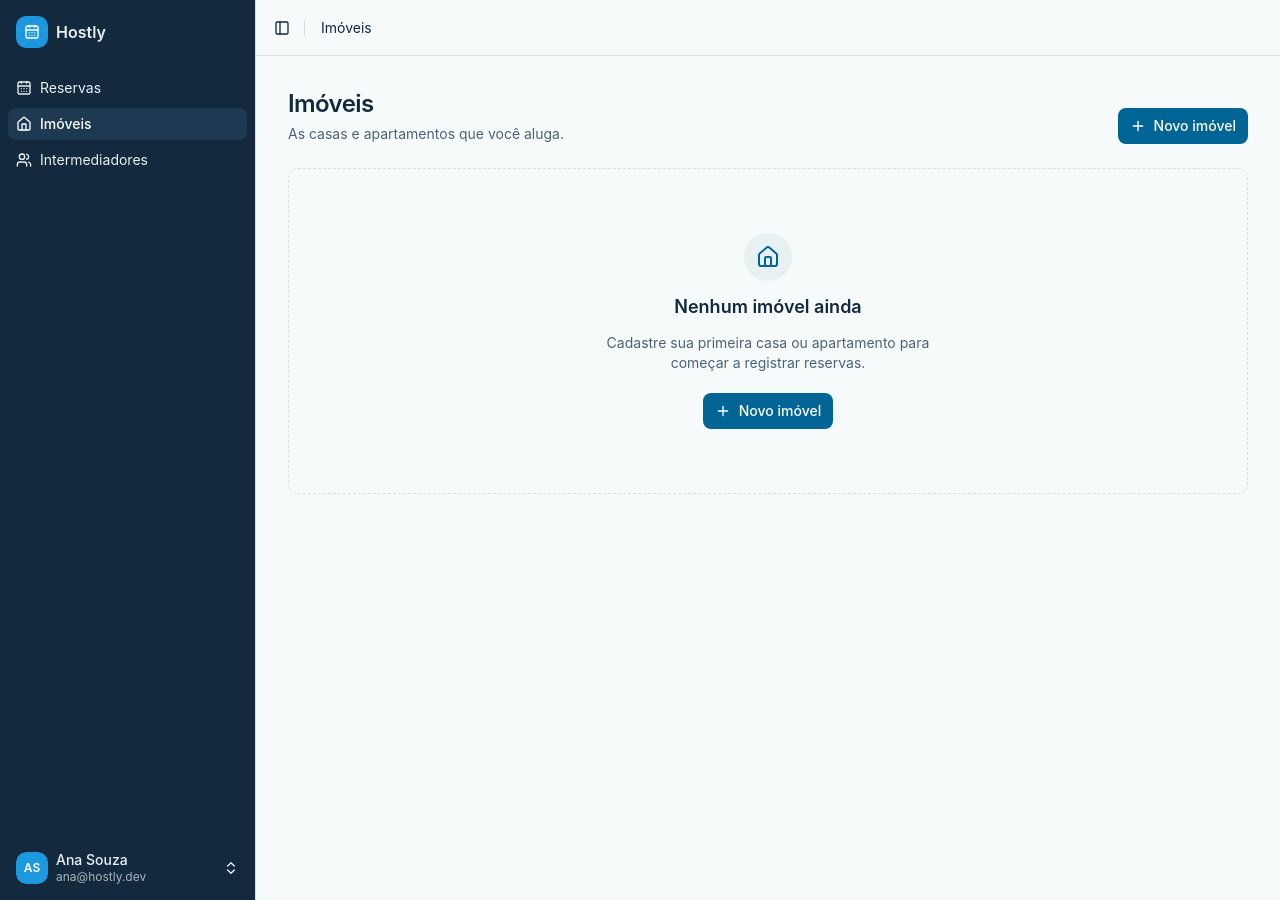
Test case: creating a property › lets the address be typed by hand when the CEP is down
Expected: the heading "Imóveis" is shown, [288,89,374,118]
Click the button "Novo imóvel" in the row of "As casas e apartamentos que você aluga." at (1183,126), box [1118,108,1248,144]
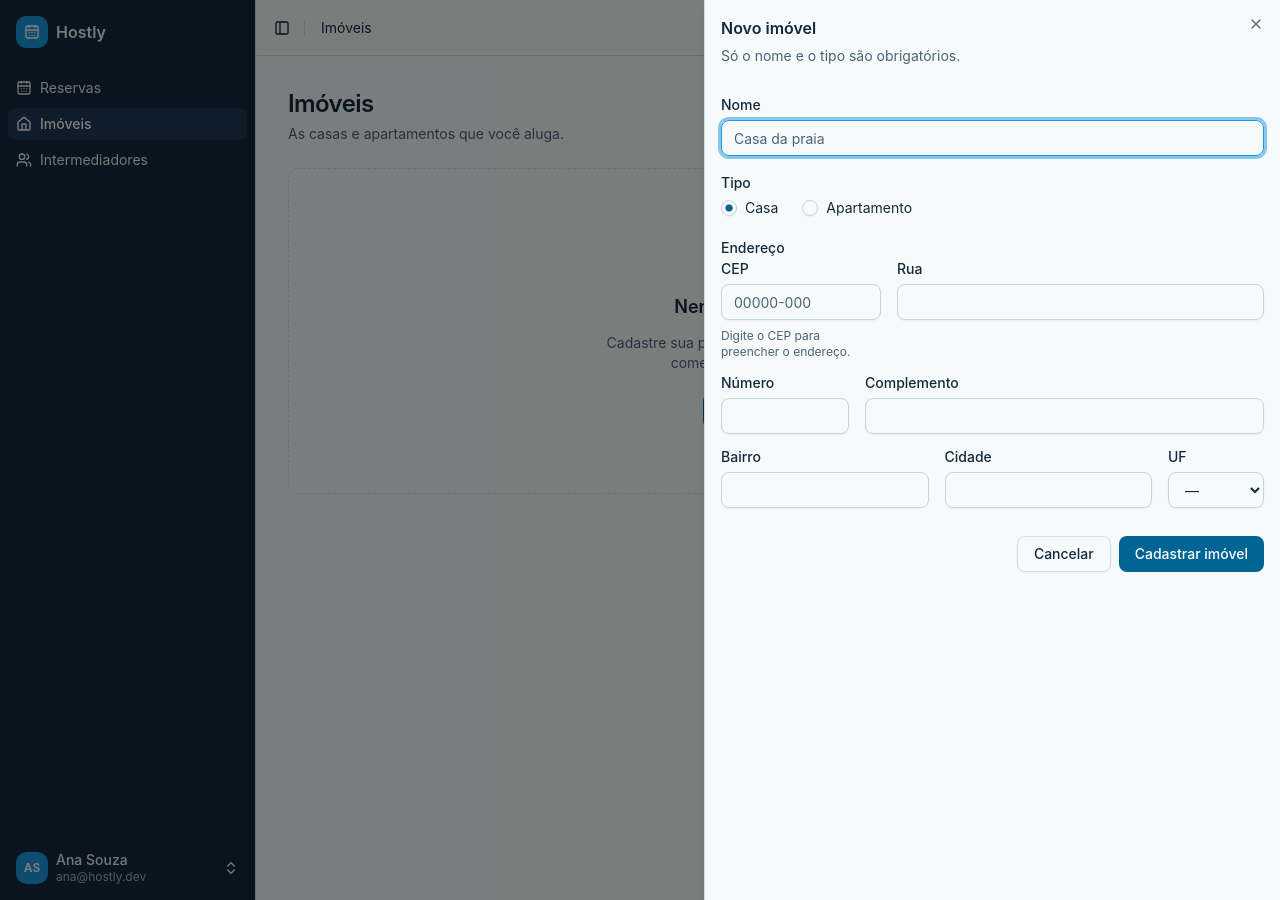
Type "99999999" into the field labelled "CEP" at (801,302), box [721,284,881,320]
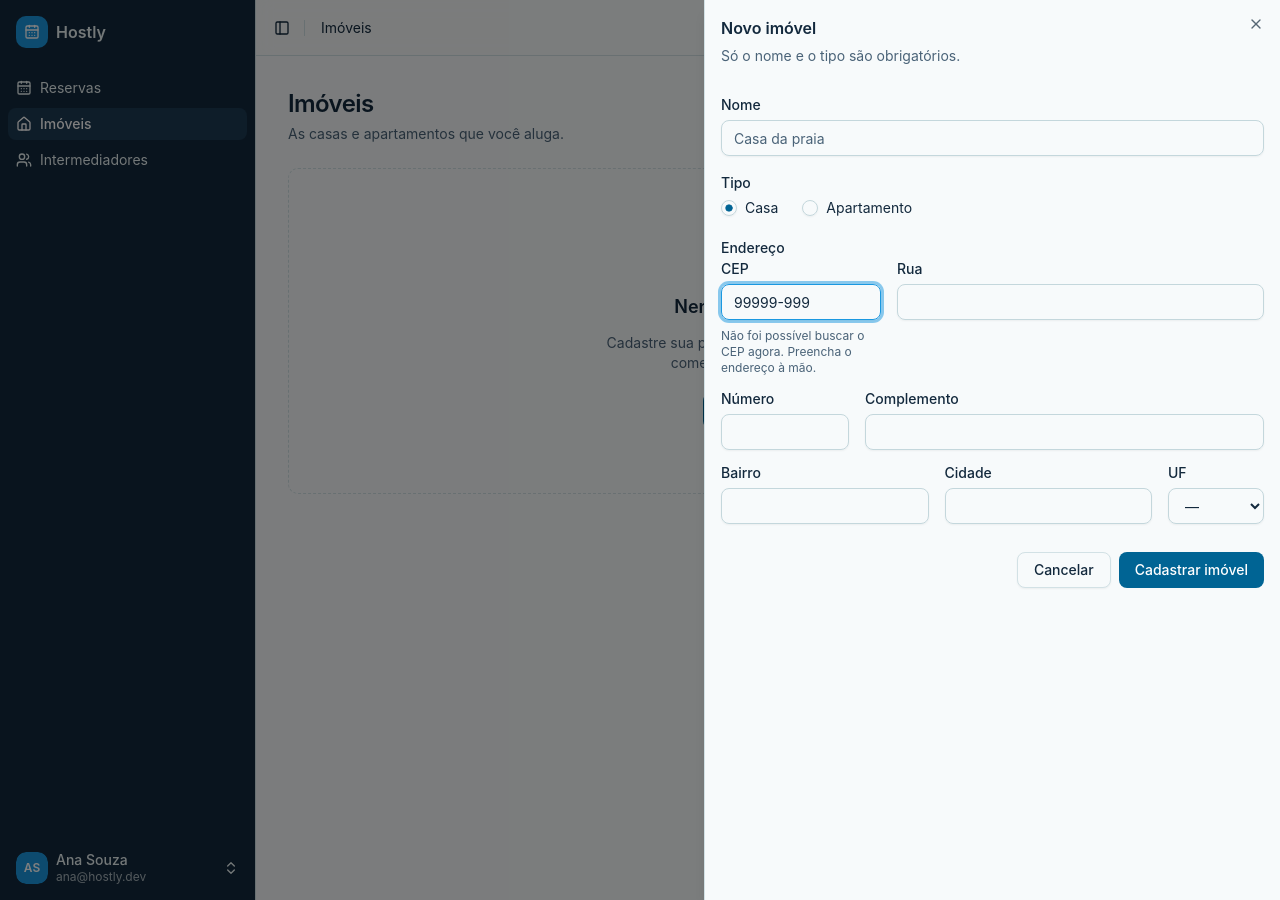
Expected: the field labelled "Rua" is enabled, [897,284,1264,320]
Result: the text "Não foi possível buscar o CEP" is shown at [721,328,864,375]
